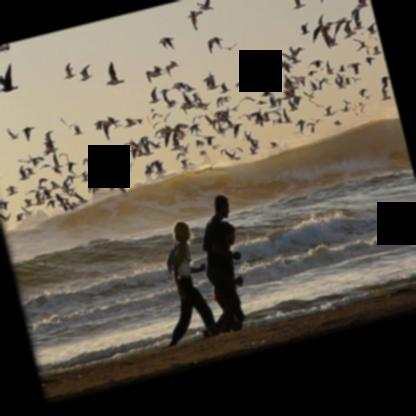backpack: (166, 242, 188, 277)
